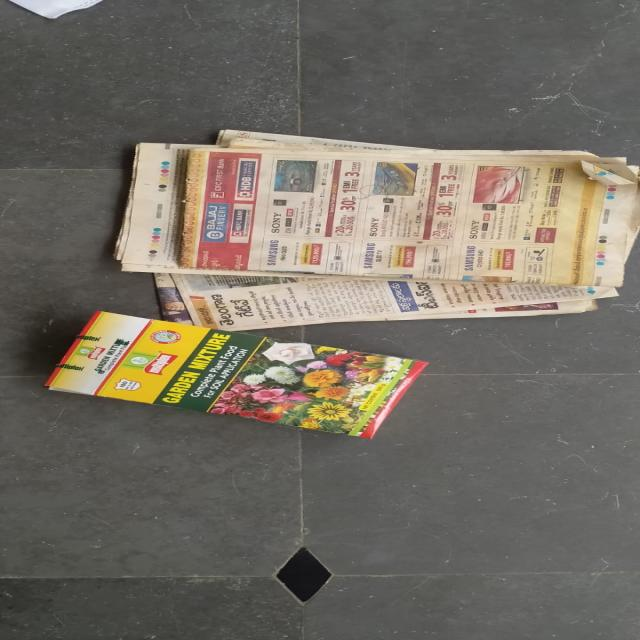dry: (120, 134, 639, 321), (53, 317, 427, 446)
